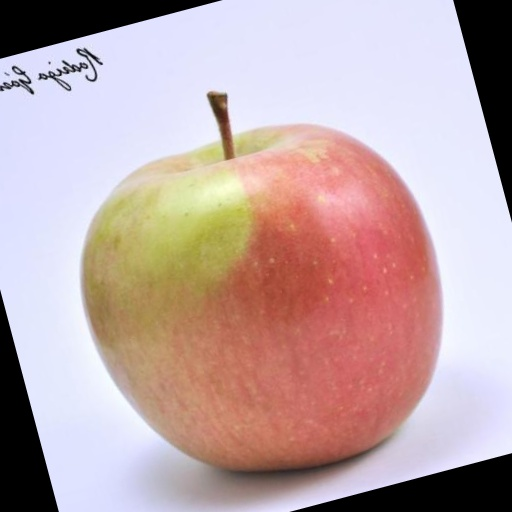fruit: (343, 105, 512, 474), (90, 49, 377, 262), (89, 19, 361, 203), (90, 24, 358, 192), (216, 110, 218, 111)
